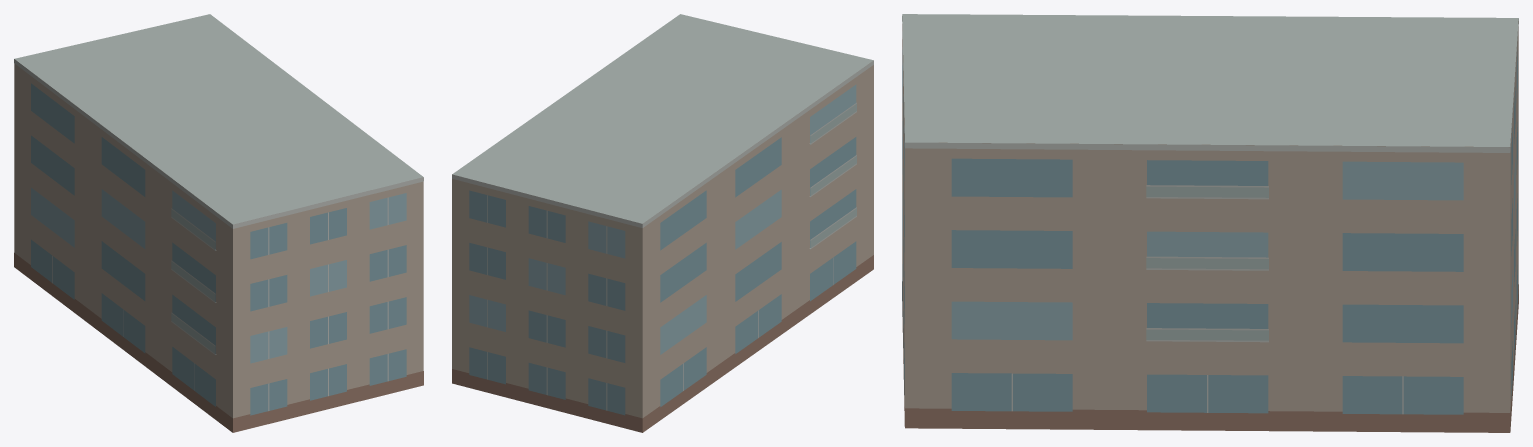
File: survey-upis-32741572.glb
The picture shows the model from 3 angles, left to right: view 1: azimuth 30°, elevation 25°; view 2: azimuth 150°, elevation 25°; view 3: azimuth 270°, elevation 25°; orthographic projection. The views are drawn at different scales.
Visible parts, largest first — view 1: survey-upis-32741572.tmp; view 2: survey-upis-32741572.tmp; view 3: survey-upis-32741572.tmp.
Part boxes in pixels (box(x1,y1,x2,y2)): survey-upis-32741572.tmp: box(14, 14, 423, 432); survey-upis-32741572.tmp: box(452, 14, 873, 432); survey-upis-32741572.tmp: box(902, 14, 1518, 432).
Size of the model in its own units: 11.7 by 11.7 by 22.88.
